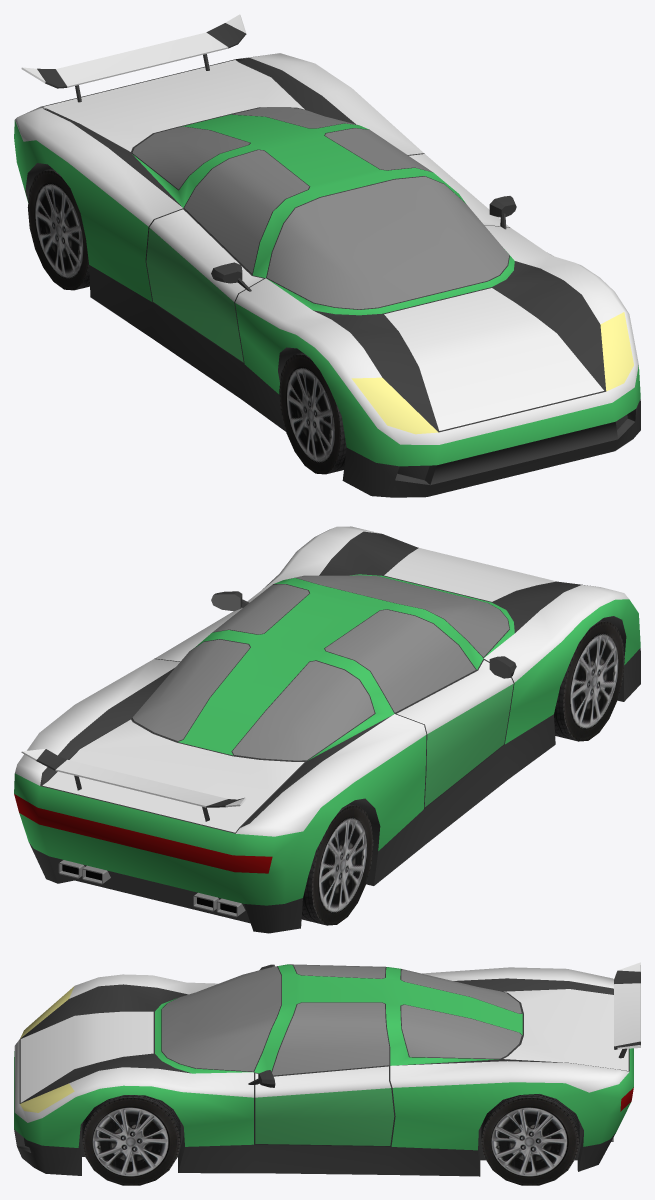
Rendered from Car 07.FBX.
The picture shows the model from 3 angles, top to bottom: view 1: azimuth 30°, elevation 25°; view 2: azimuth 150°, elevation 25°; view 3: azimuth 270°, elevation 25°; orthographic projection. The views are drawn at different scales.
Parts seen in each view (by area): view 1: Car 07; view 2: Car 07; view 3: Car 07.
Part boxes in pixels (left/top/right/bottom): Car 07: left=14, top=14, right=640, bottom=497; Car 07: left=14, top=526, right=640, bottom=933; Car 07: left=14, top=962, right=640, bottom=1185.
Size of the model in its own units: 2.14 by 1.22 by 4.88.
Materials: 1 (1 with a texture image).
